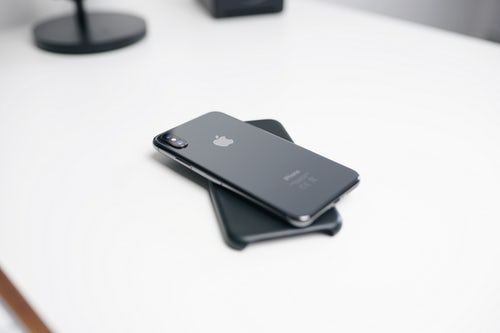phone: (151, 109, 360, 228)
